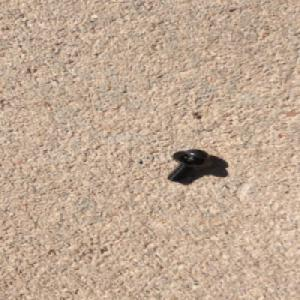BoltWasher: (166, 147, 214, 182)
